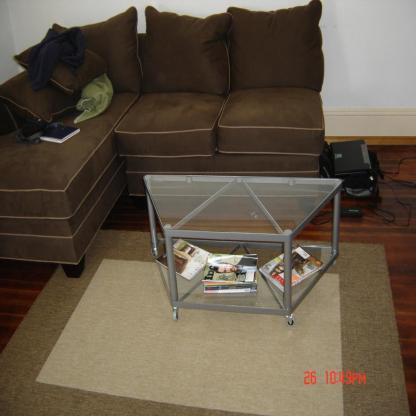board: (330, 140, 373, 175)
